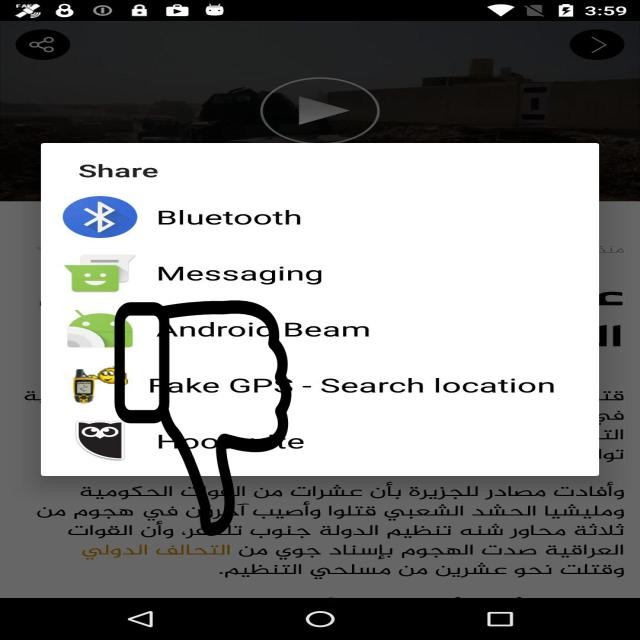obstruction: (112, 300, 294, 536)
